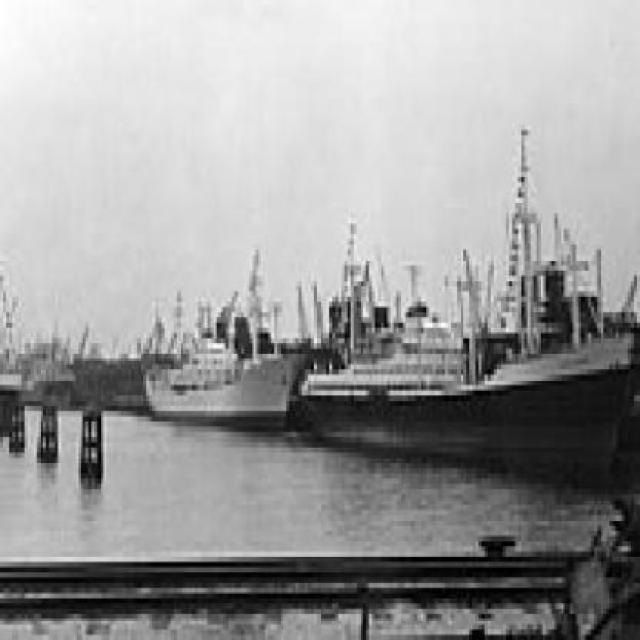container: (293, 111, 638, 517), (135, 282, 318, 443)
